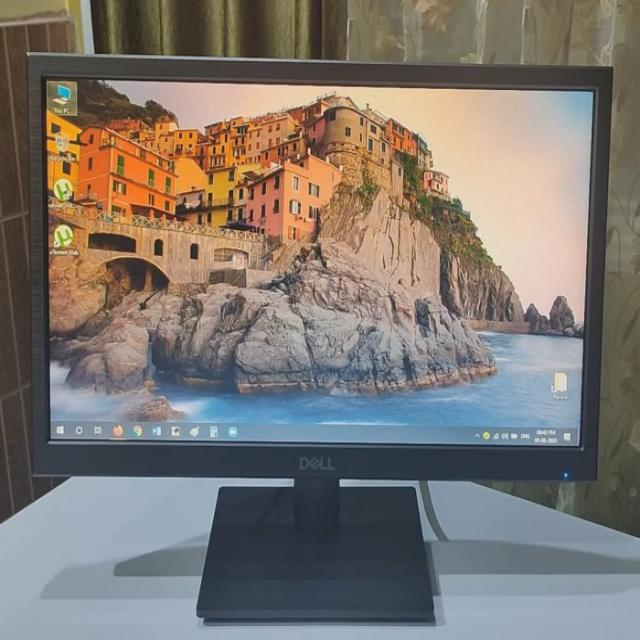monitor: (18, 42, 612, 640)
